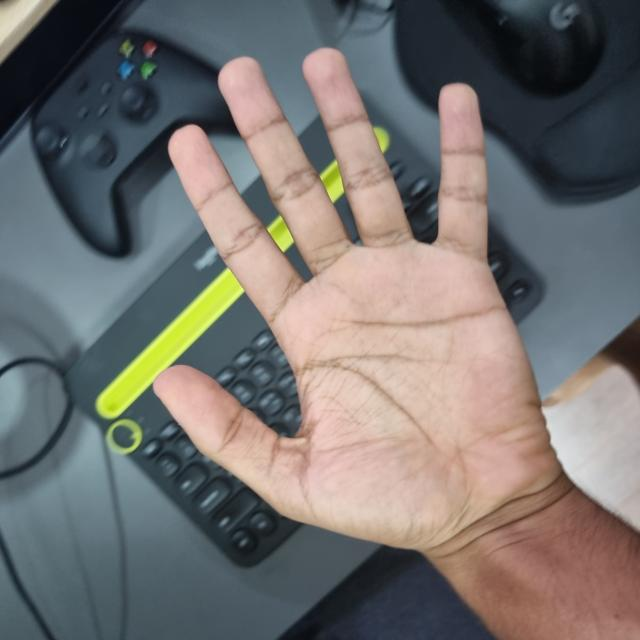Paper: (95, 151, 588, 547)
